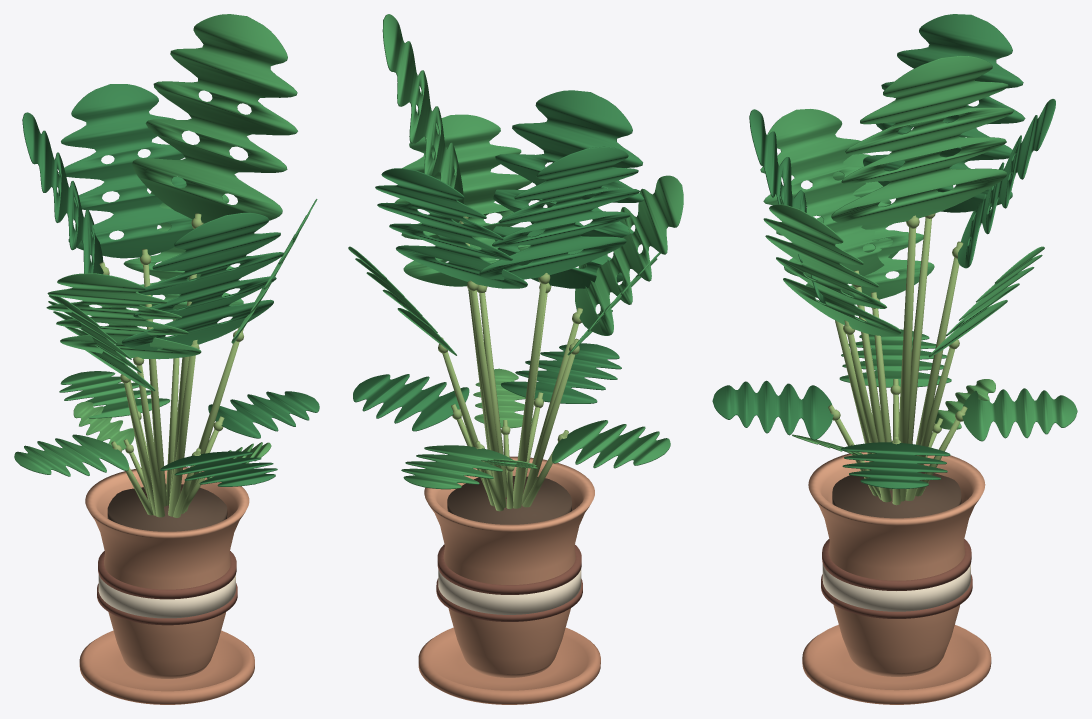
The picture shows the model from 3 angles, left to right: view 1: azimuth 30°, elevation 25°; view 2: azimuth 150°, elevation 25°; view 3: azimuth 270°, elevation 25°; orthographic projection. The views are drawn at different scales.
Visible parts, largest first — view 1: F016; view 2: F016; view 3: F016.
Part boxes in pixels (x1,y1,x2,y2): F016: [14, 14, 319, 704]; F016: [348, 14, 683, 704]; F016: [712, 14, 1077, 704].
Size of the model in its own units: 0.6096 by 1.22 by 0.6096.
